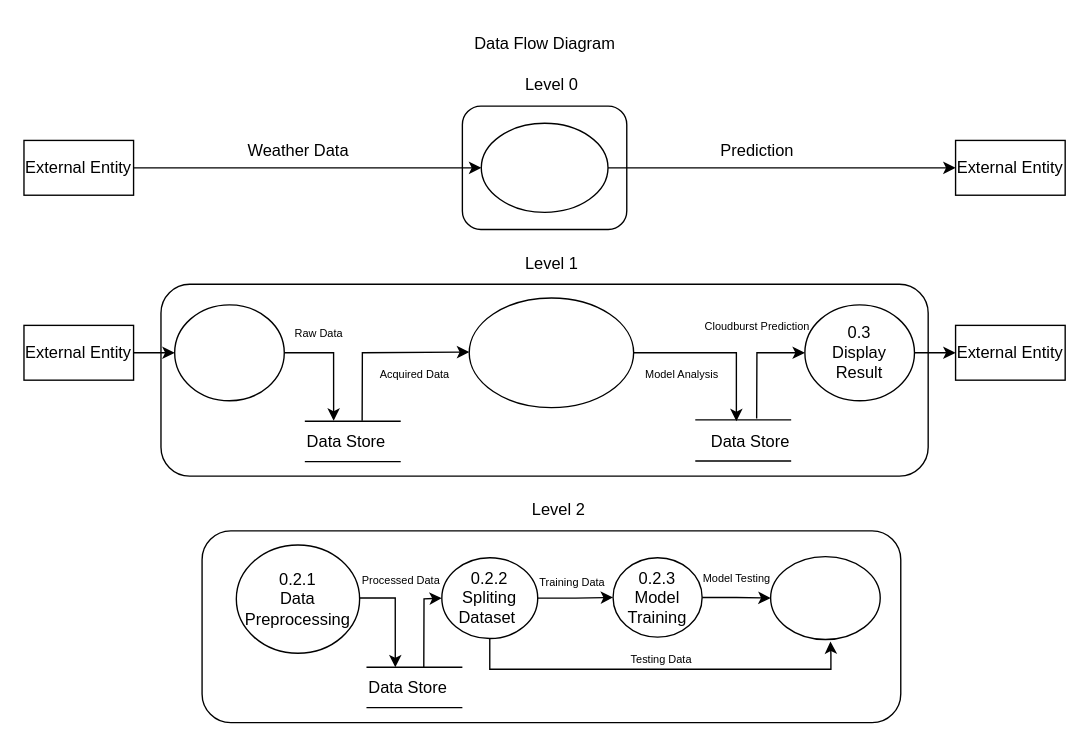
This 1089x747 diagram has some shape labels left out. Here are the shapes that lost their labels. From the top down, the centre of each, then its label:
[544,167]: 0 Cloudburst Prediction
[228,352]: 0.1 Data Acquisition
[551,352]: 0.2 Data preprocessing, training and evaluation
[824,597]: 0.2 Testing Model Evaluation
